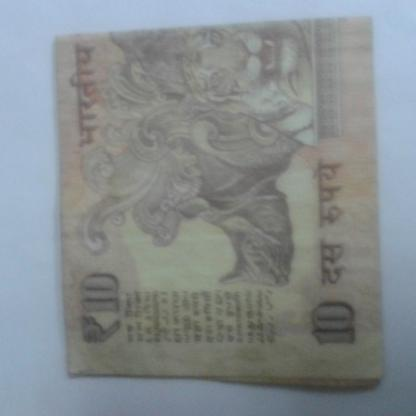Old10Back: (53, 17, 386, 391)
